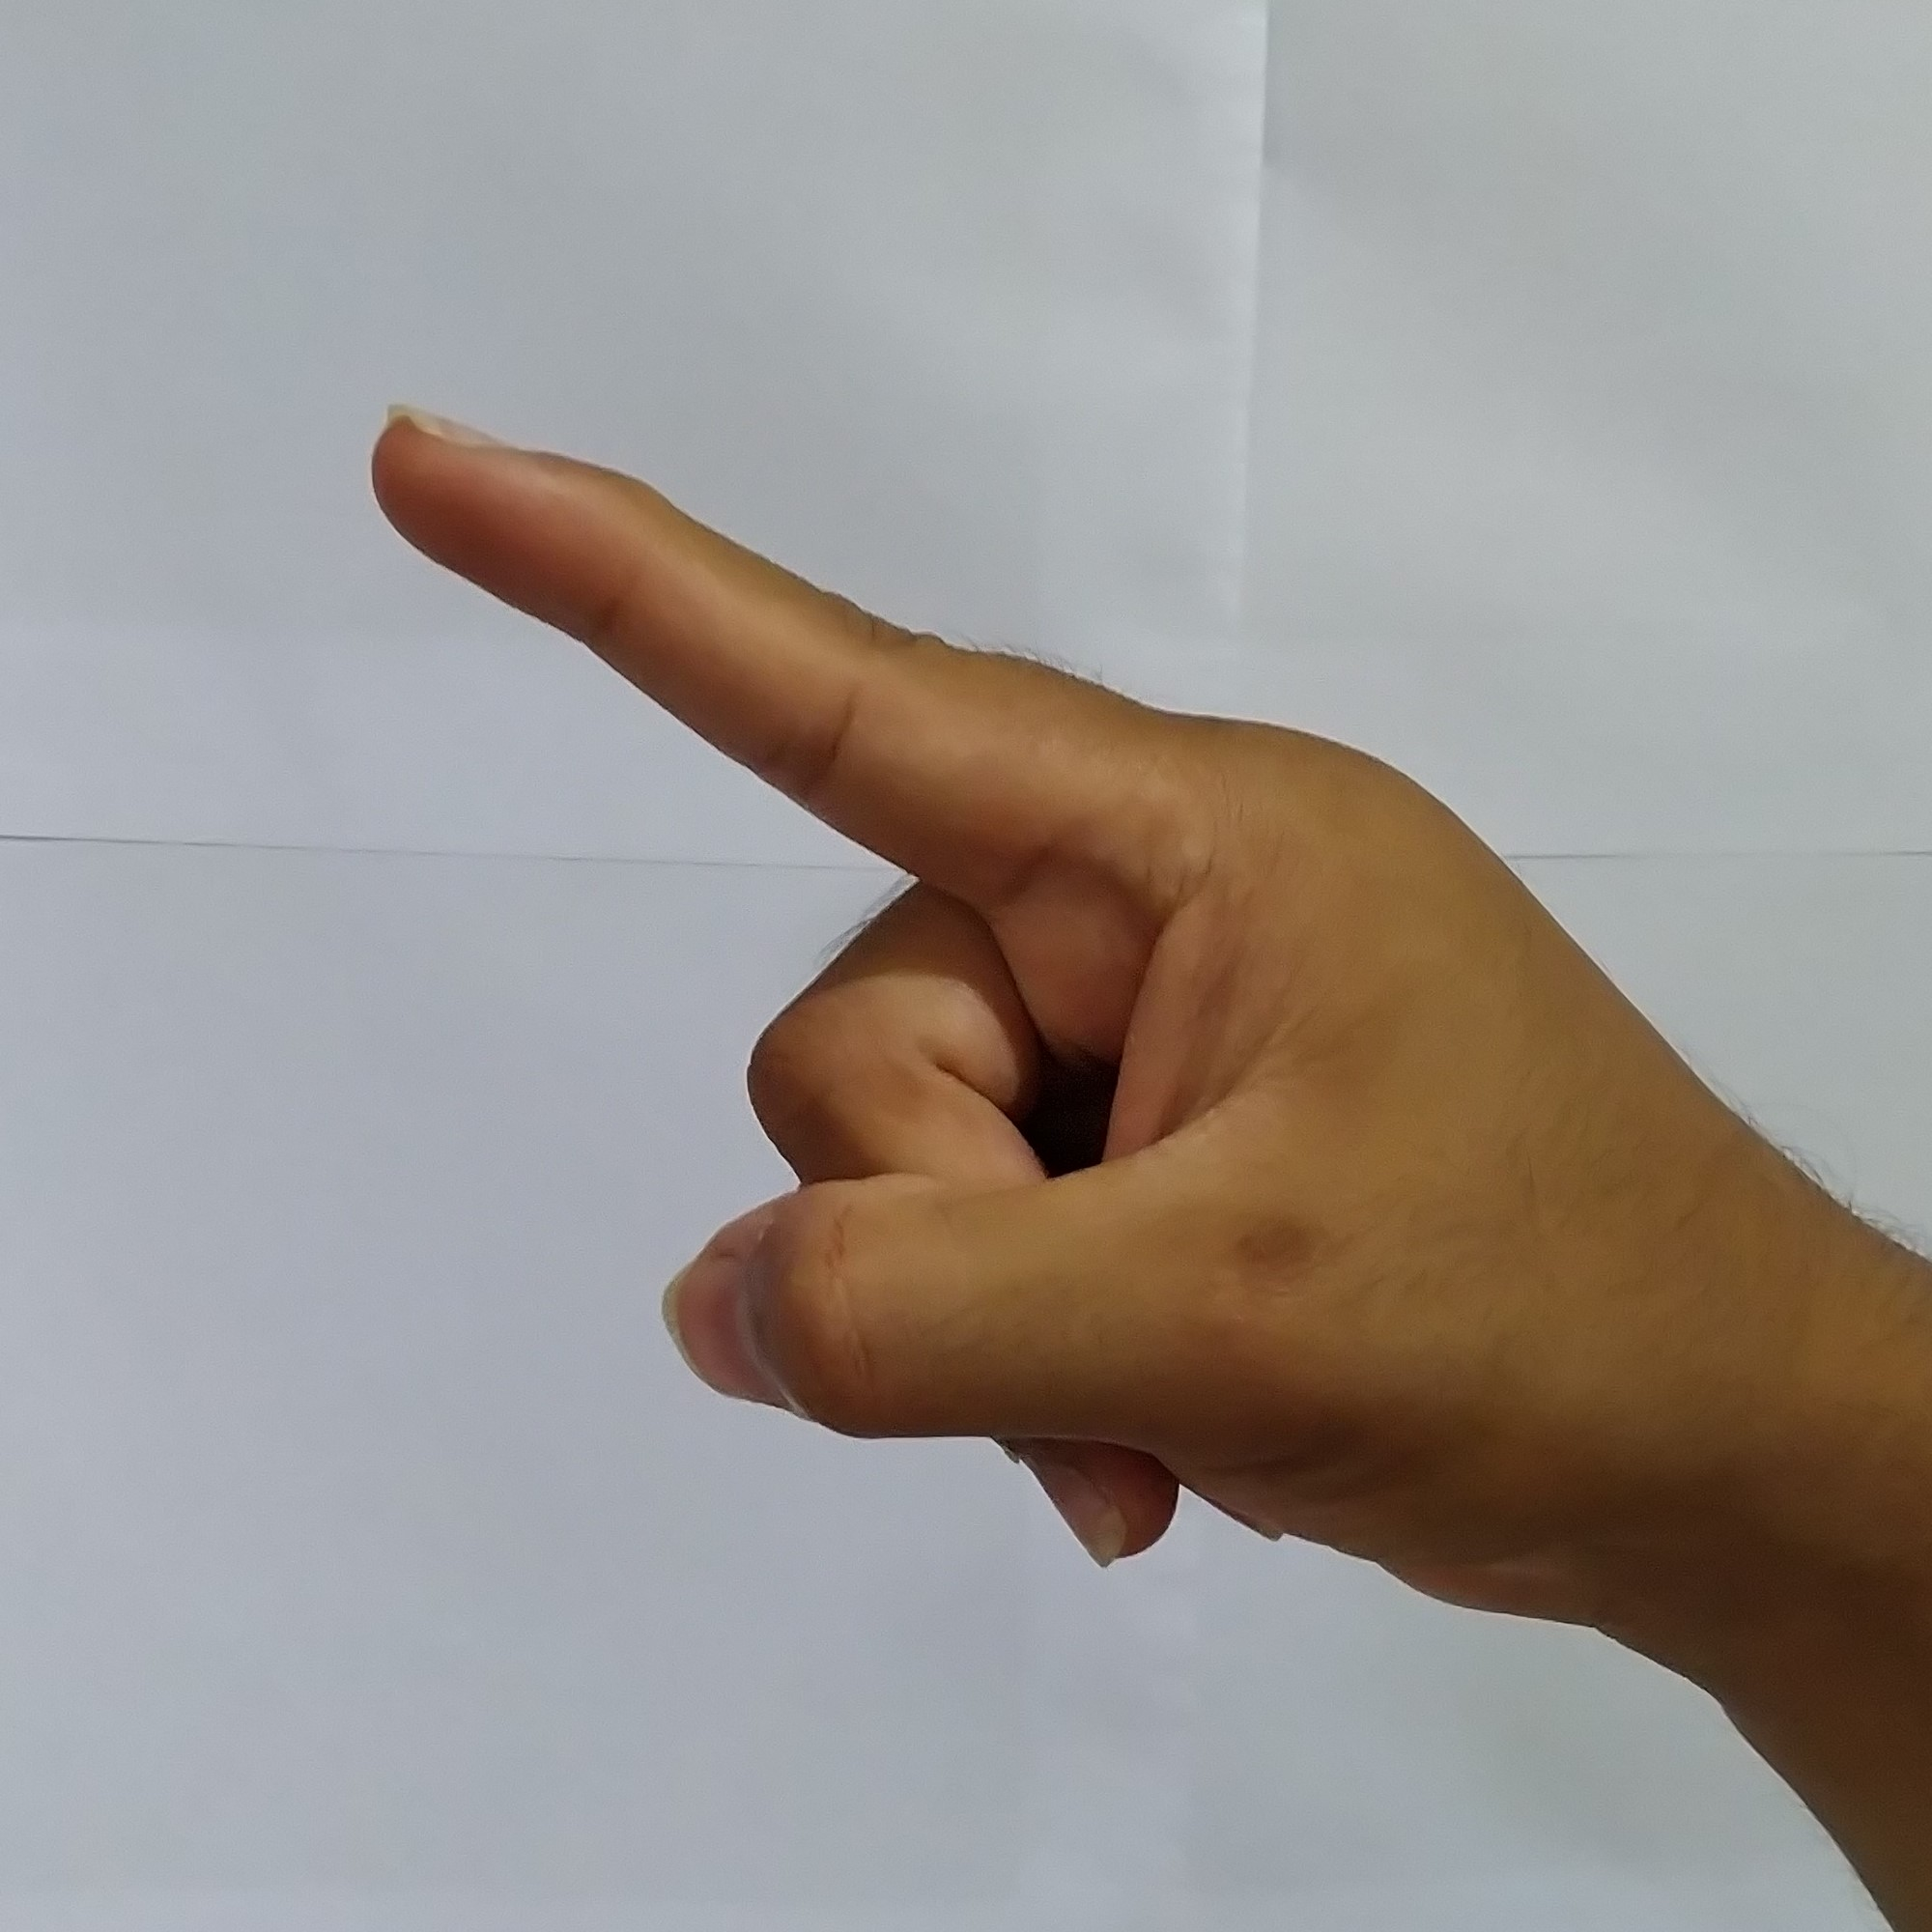Z: (313, 364, 1829, 1626)
